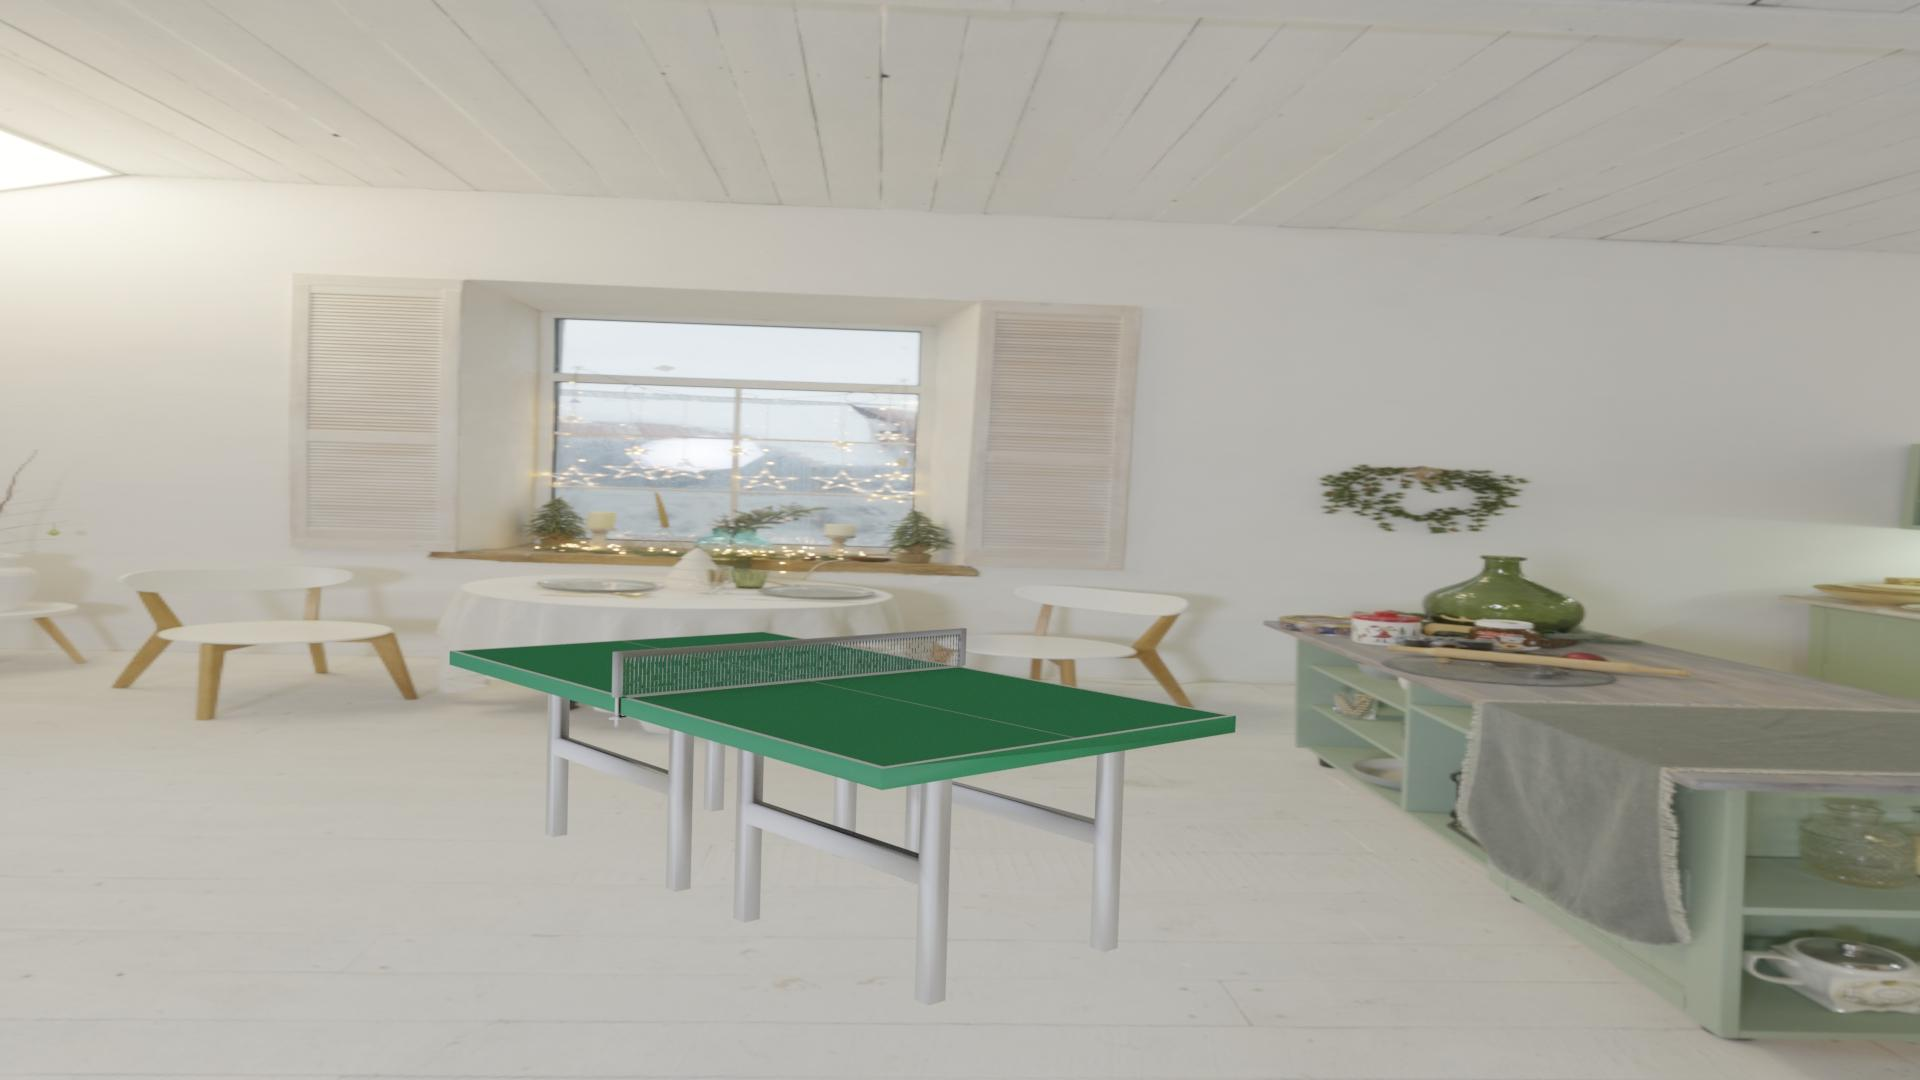table: (456, 632, 1228, 766)
